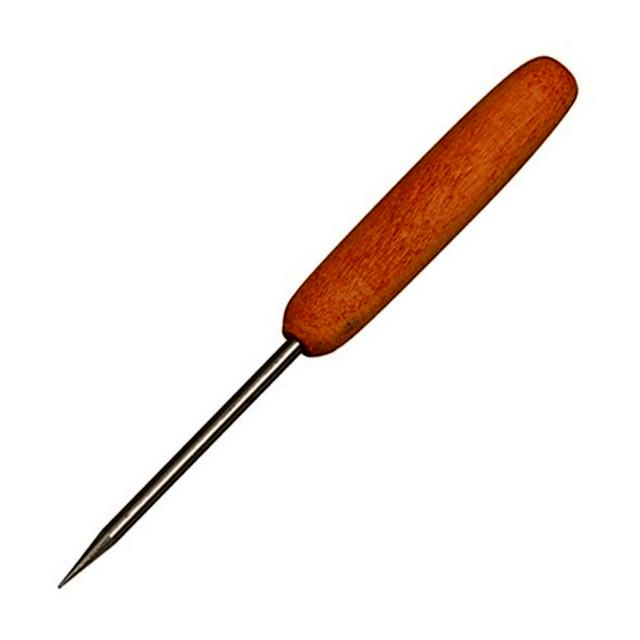ice pick: (55, 53, 582, 592)
